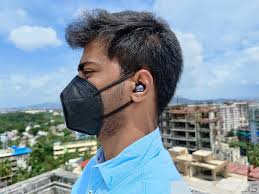earphone: (131, 69, 154, 103)
